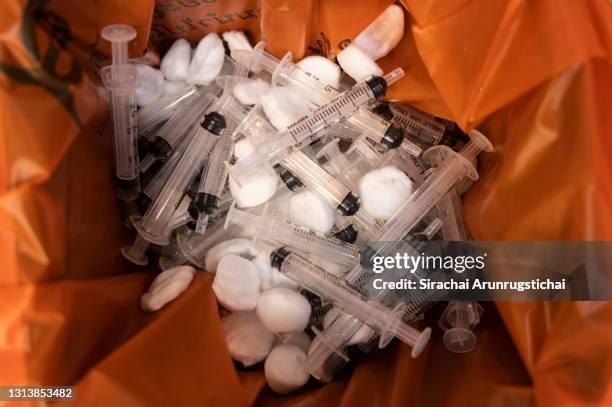Syringe: (230, 68, 403, 181), (361, 130, 492, 264), (270, 247, 430, 356), (375, 130, 492, 250), (135, 112, 225, 245), (226, 204, 358, 267), (281, 150, 377, 236), (101, 24, 138, 200), (235, 46, 339, 105), (281, 150, 359, 215), (137, 128, 195, 213), (150, 93, 216, 159), (159, 216, 241, 269), (192, 131, 233, 232), (192, 135, 233, 233), (307, 313, 363, 381), (388, 103, 467, 145), (137, 85, 199, 133), (316, 138, 363, 188), (438, 301, 482, 352), (436, 187, 468, 240), (166, 196, 190, 234)
